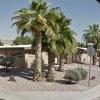Palm tree: (18, 1, 67, 80)
